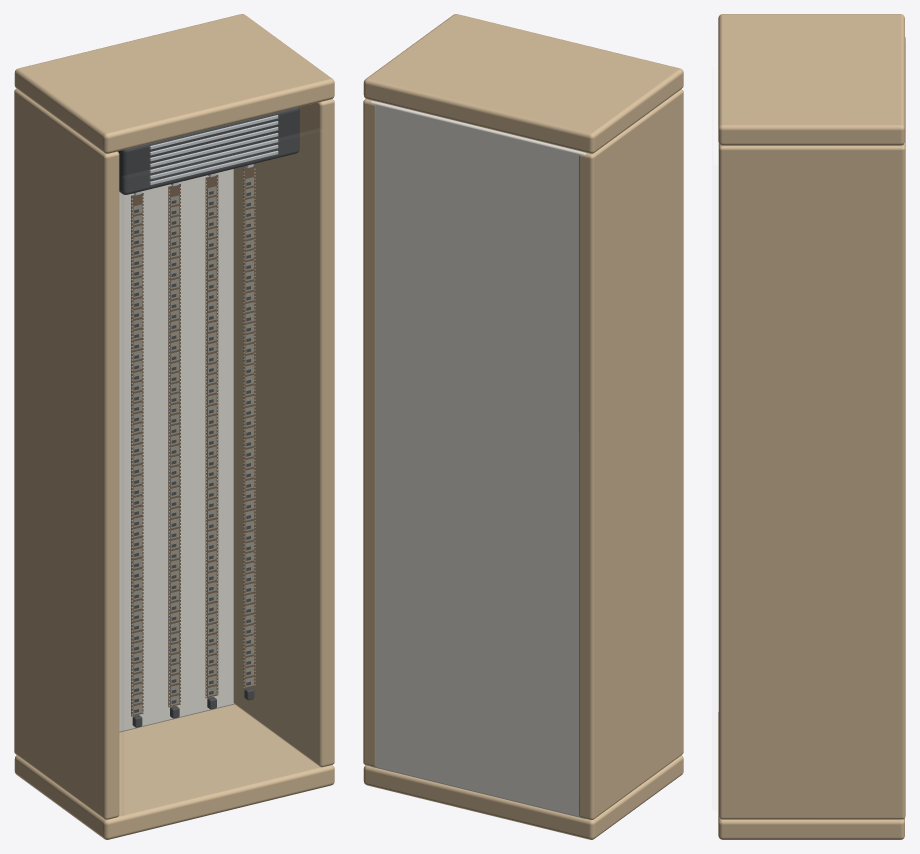
Rendered from camera-repair-and-darkroom-laboratory-film-drying-cabi-47be8060__31799.glb.
3 renders of one model, left to right at view 1: azimuth 30°, elevation 25°; view 2: azimuth 150°, elevation 25°; view 3: azimuth 270°, elevation 25°, orthographic.
Visible parts, largest first — view 1: film-drying-cabinet; view 2: film-drying-cabinet; view 3: film-drying-cabinet.
Boxes of the visible parts, box(x1,y1,x2,y2) form: film-drying-cabinet: box(14, 14, 334, 839); film-drying-cabinet: box(363, 14, 683, 839); film-drying-cabinet: box(718, 14, 905, 839).
Bounding box in the file's own units: 0.65 × 1.9 × 0.4651.
